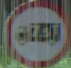Heavy Vehicles: (9, 4, 63, 54)
